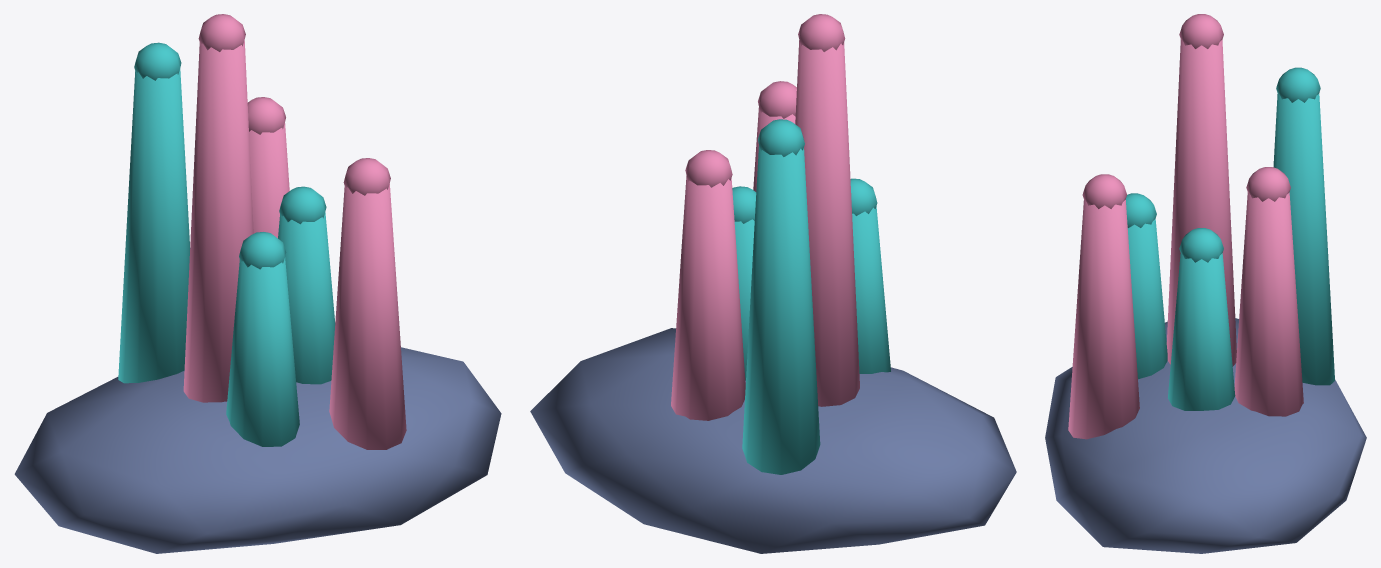
File: r003_reef_coral_mass_placement_coral_06.glb
The picture shows the model from 3 angles, left to right: view 1: azimuth 30°, elevation 25°; view 2: azimuth 150°, elevation 25°; view 3: azimuth 270°, elevation 25°; orthographic projection. The views are drawn at different scales.
Visible parts, largest first — view 1: r003_reef_coral_mass_placement_coral_06.001; view 2: r003_reef_coral_mass_placement_coral_06.001; view 3: r003_reef_coral_mass_placement_coral_06.001.
Boxes of the visible parts, x1,y1,x2,y2 form: r003_reef_coral_mass_placement_coral_06.001: (14, 14, 501, 553); r003_reef_coral_mass_placement_coral_06.001: (530, 14, 1016, 553); r003_reef_coral_mass_placement_coral_06.001: (1045, 14, 1366, 553).
Bounding box in the file's own units: 2.72 × 2.98 × 1.87.
